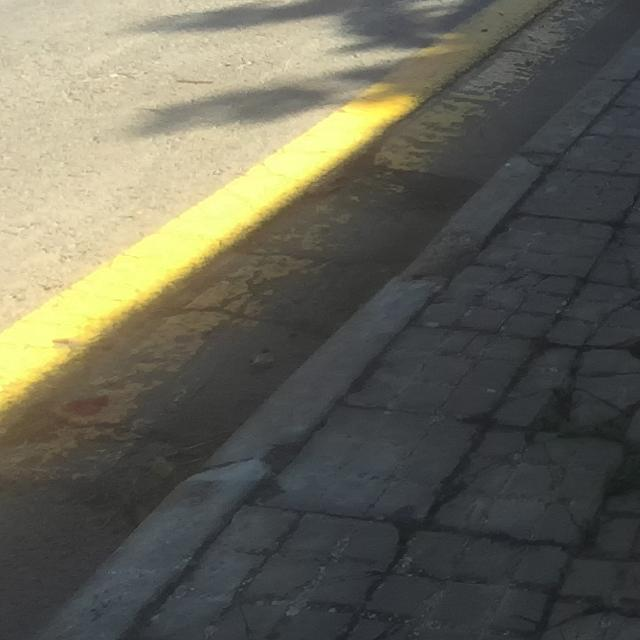calcada_quebrada: (385, 437, 523, 550), (482, 338, 640, 435), (525, 428, 640, 543), (237, 502, 331, 640), (528, 546, 640, 640), (571, 274, 640, 337), (600, 181, 640, 272)
